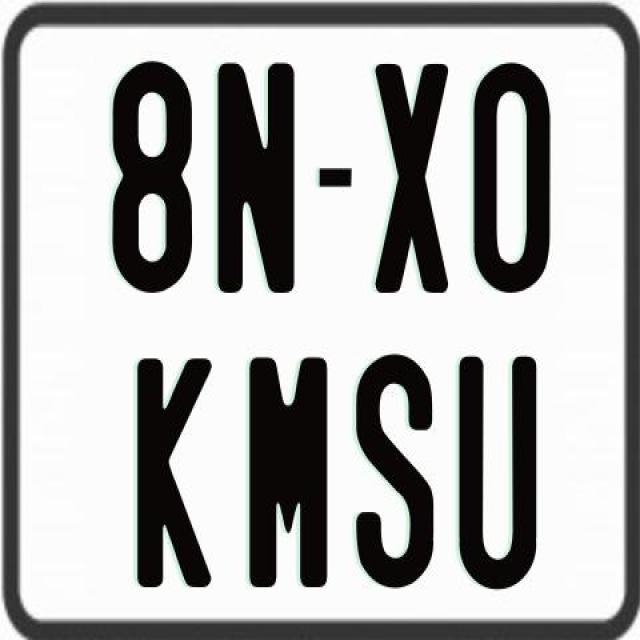0: (473, 61, 556, 300)
8: (111, 56, 198, 290)
K: (137, 358, 220, 592)
M: (248, 355, 327, 595)
N: (217, 61, 296, 301)
S: (354, 354, 440, 588)
U: (457, 356, 539, 596)
X: (370, 62, 444, 298)
